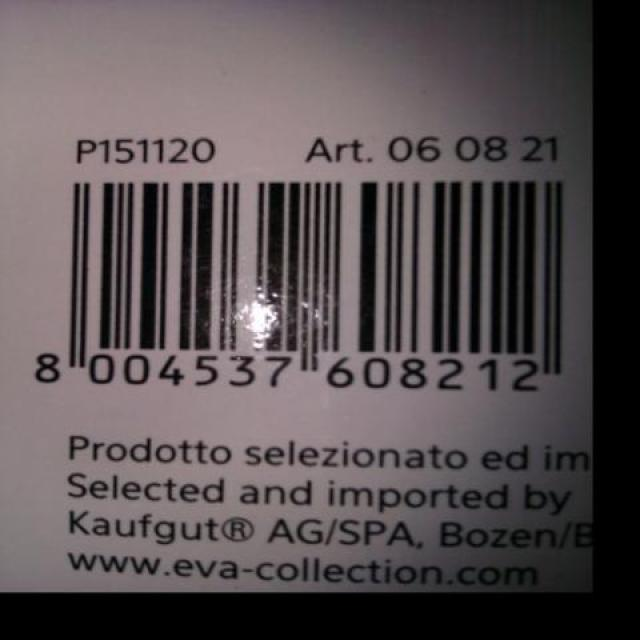Barcode: (19, 167, 577, 402)
